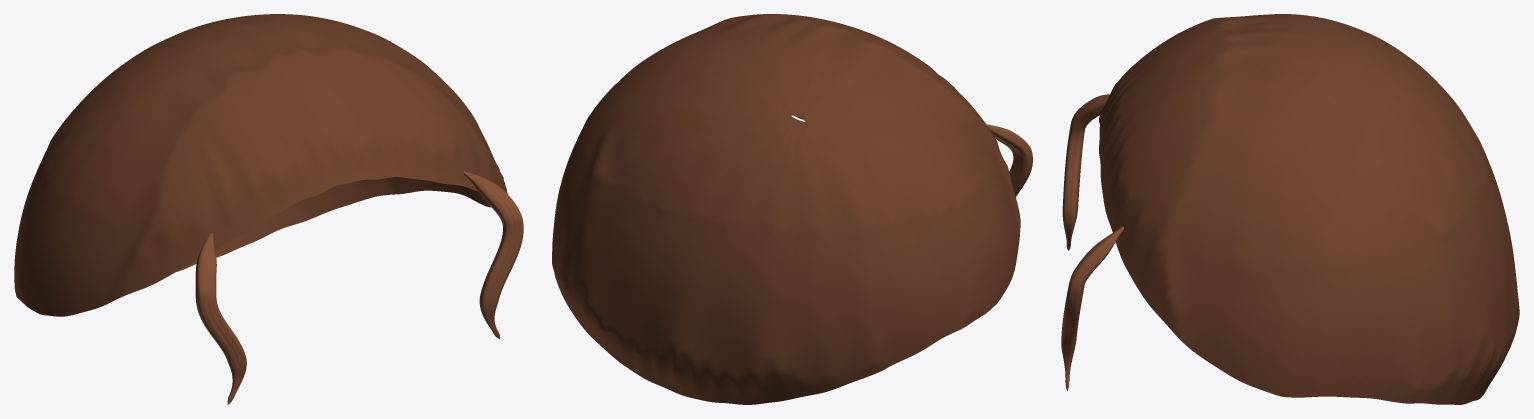
The model's file is Feminine-ponytail-pashmina-hair.glb.
The picture shows the model from 3 angles, left to right: view 1: azimuth 30°, elevation 25°; view 2: azimuth 150°, elevation 25°; view 3: azimuth 270°, elevation 25°; orthographic projection. The views are drawn at different scales.
Visible parts, largest first — view 1: 226 hair / Hair / crisp pulled roots220.001, 226 hair / Hair / sculpted front locks222.001; view 2: 226 hair / Hair / crisp pulled roots220.001, 226 hair / Hair / sculpted front locks222.001; view 3: 226 hair / Hair / crisp pulled roots220.001, 226 hair / Hair / sculpted front locks222.001.
Part boxes in pixels (box(x1,y1,x2,y2)): 226 hair / Hair / crisp pulled roots220.001: box(14, 14, 507, 316); 226 hair / Hair / sculpted front locks222.001: box(195, 171, 523, 404); 226 hair / Hair / crisp pulled roots220.001: box(552, 14, 1020, 404); 226 hair / Hair / sculpted front locks222.001: box(986, 124, 1032, 196); 226 hair / Hair / crisp pulled roots220.001: box(1099, 14, 1519, 404); 226 hair / Hair / sculpted front locks222.001: box(1061, 94, 1123, 390).
Size of the model in its own units: 0.9538 by 0.6392 by 0.8013.
